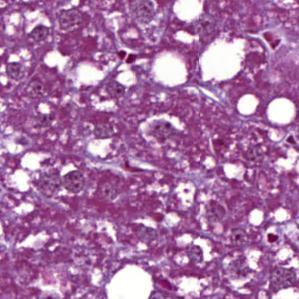steatosis: (265, 94, 299, 127)
